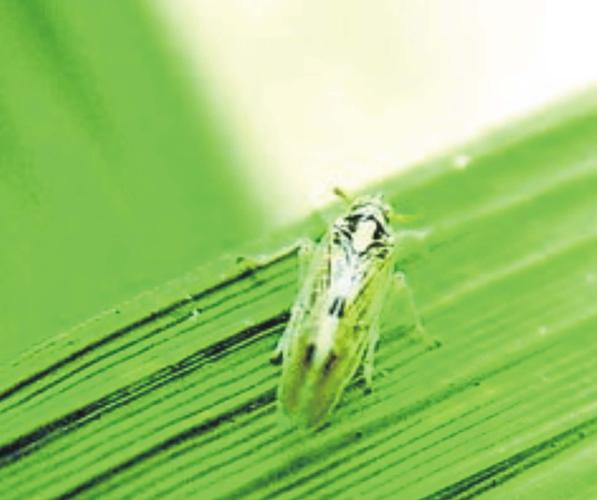Delphacidae: (234, 187, 443, 434)
